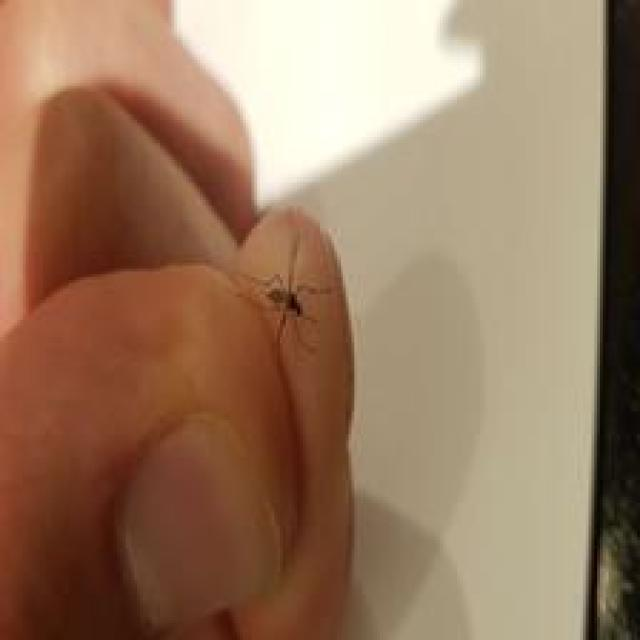Culex: (232, 229, 334, 354)
